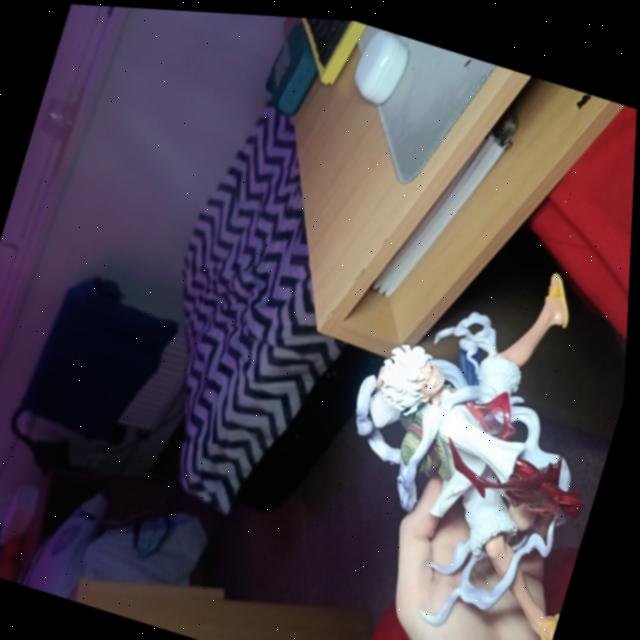luffy: (280, 213, 633, 640)
